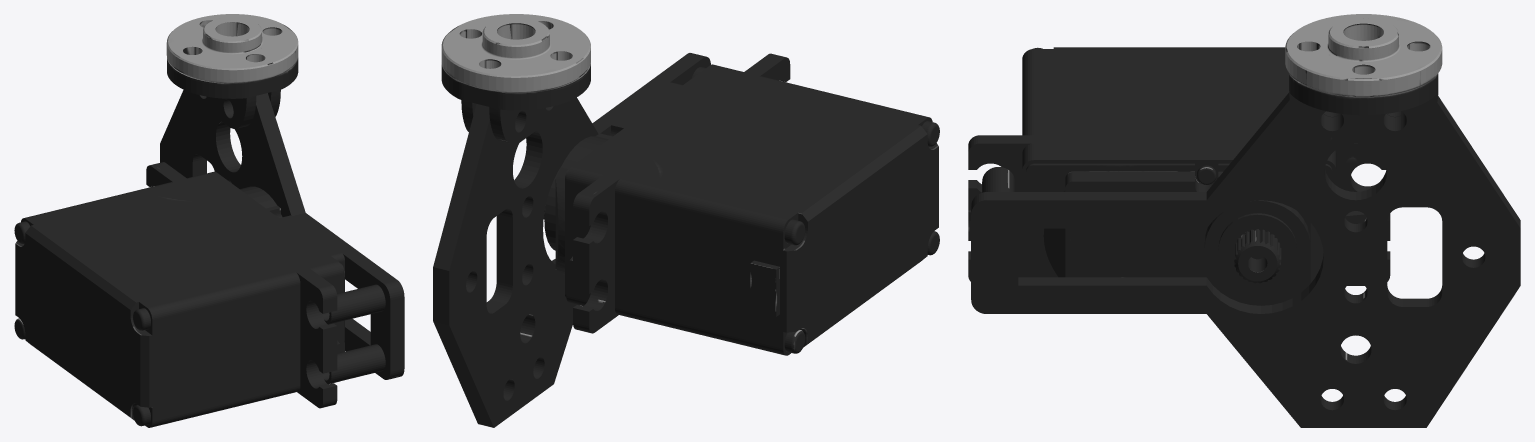
3 views of the same model, side by side, from view 1: azimuth 30°, elevation 25°; view 2: azimuth 150°, elevation 25°; view 3: azimuth 270°, elevation 25° (orthographic). The views are drawn at different scales.
Parts seen in each view (by area): view 1: link5; view 2: link5; view 3: link5.
Boxes of the visible parts, <box> form: link5: <box>14,14,404,427</box>; link5: <box>433,14,939,427</box>; link5: <box>968,14,1520,427</box>.
Bounding box in the file's own units: 0.0507 × 0.0704 × 0.055.
1 material, 1 textured.
